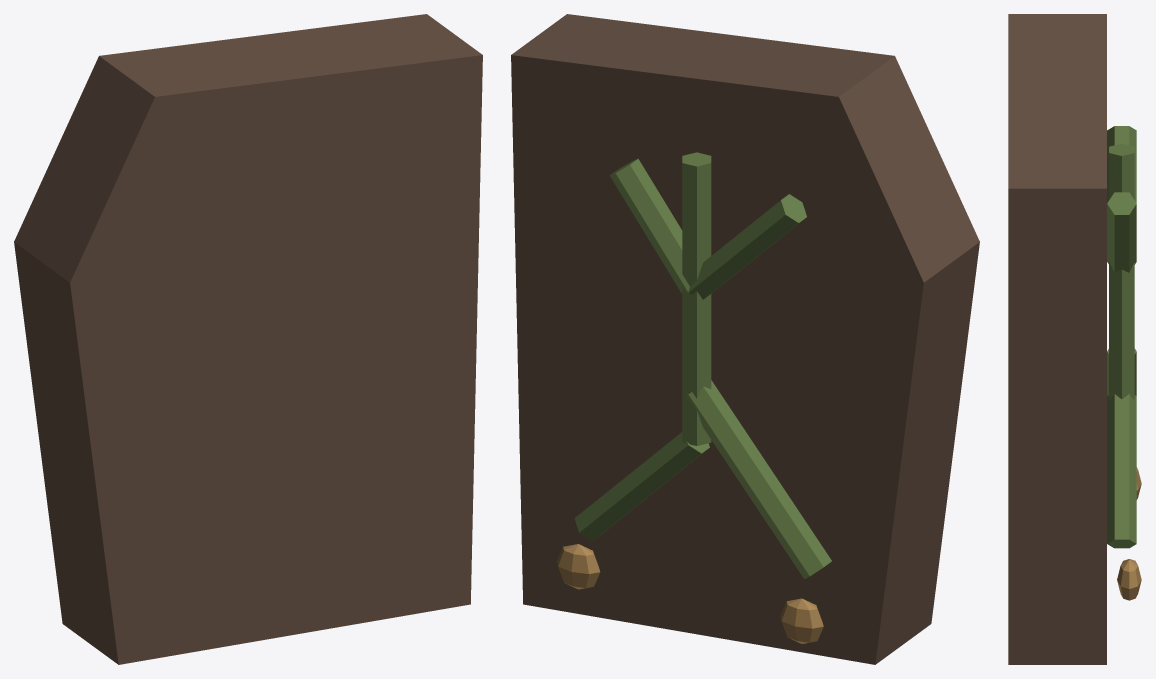
The model's file is AE_Item_RootPact.fbx.
The picture shows the model from 3 angles, left to right: view 1: azimuth 30°, elevation 25°; view 2: azimuth 150°, elevation 25°; view 3: azimuth 270°, elevation 25°; orthographic projection. The views are drawn at different scales.
Visible parts, largest first — view 1: AE_Item_RootPact; view 2: AE_Item_RootPact; view 3: AE_Item_RootPact.
Part boxes in pixels (<box>): AE_Item_RootPact: <box>14,14,482,664</box>; AE_Item_RootPact: <box>511,14,979,664</box>; AE_Item_RootPact: <box>1008,14,1141,664</box>.
Size of the model in its own units: 0.17 by 0.23 by 0.054.
